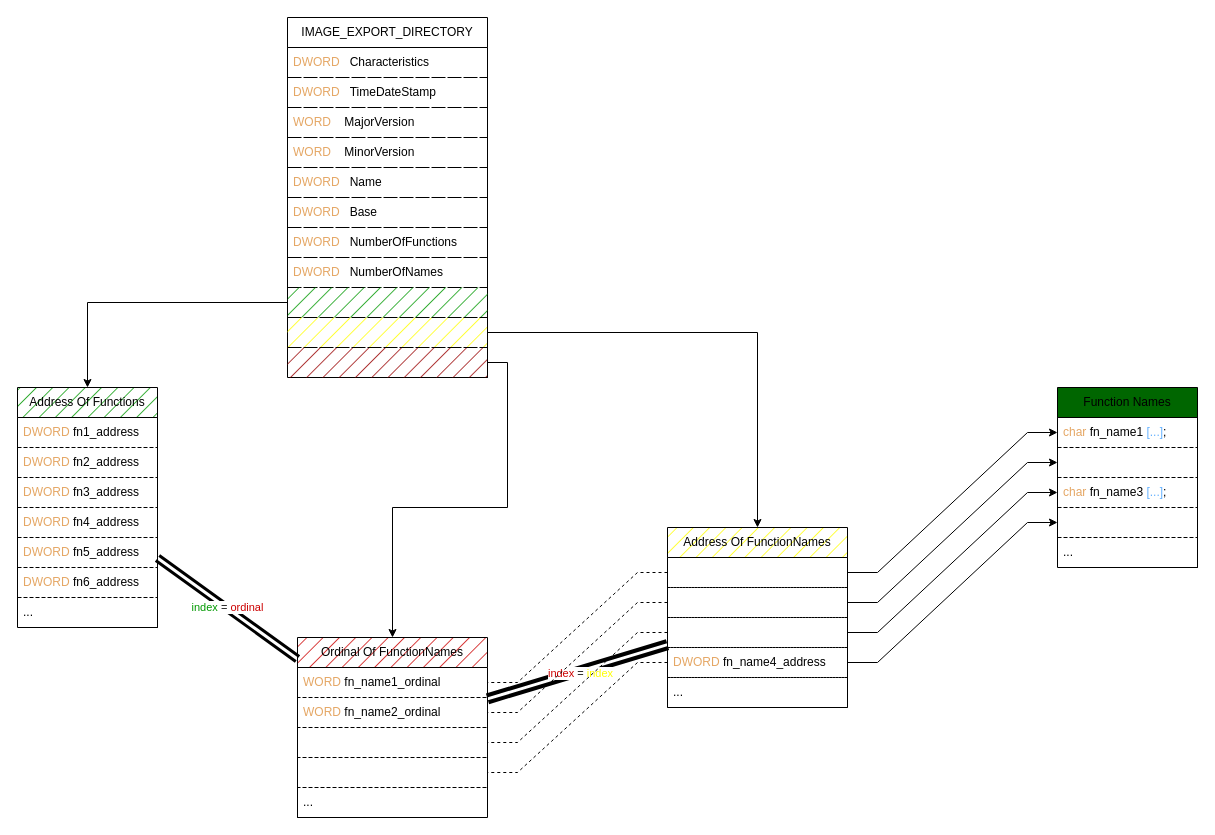
This 1215x835 diagram has some shape labels left out. The shapes that lost their labels are listed below. From the top down, each one's centre as x and y in pixels, then its label:
(x=387, y=302): DWORD AddressOfFunctions
(x=387, y=332): DWORD AddressOfNames
(x=387, y=362): DWORD AddressOfNameOrdinals
(x=1127, y=462): char fn_name2 [...] ;
(x=1127, y=522): char fn_name4 [...] ;
(x=757, y=572): DWORD fn_name1_address
(x=757, y=602): DWORD fn_name2_address
(x=757, y=632): DWORD fn_name3_address
(x=392, y=742): WORD fn_name3_ordinal
(x=392, y=772): WORD fn_name4_ordinal
